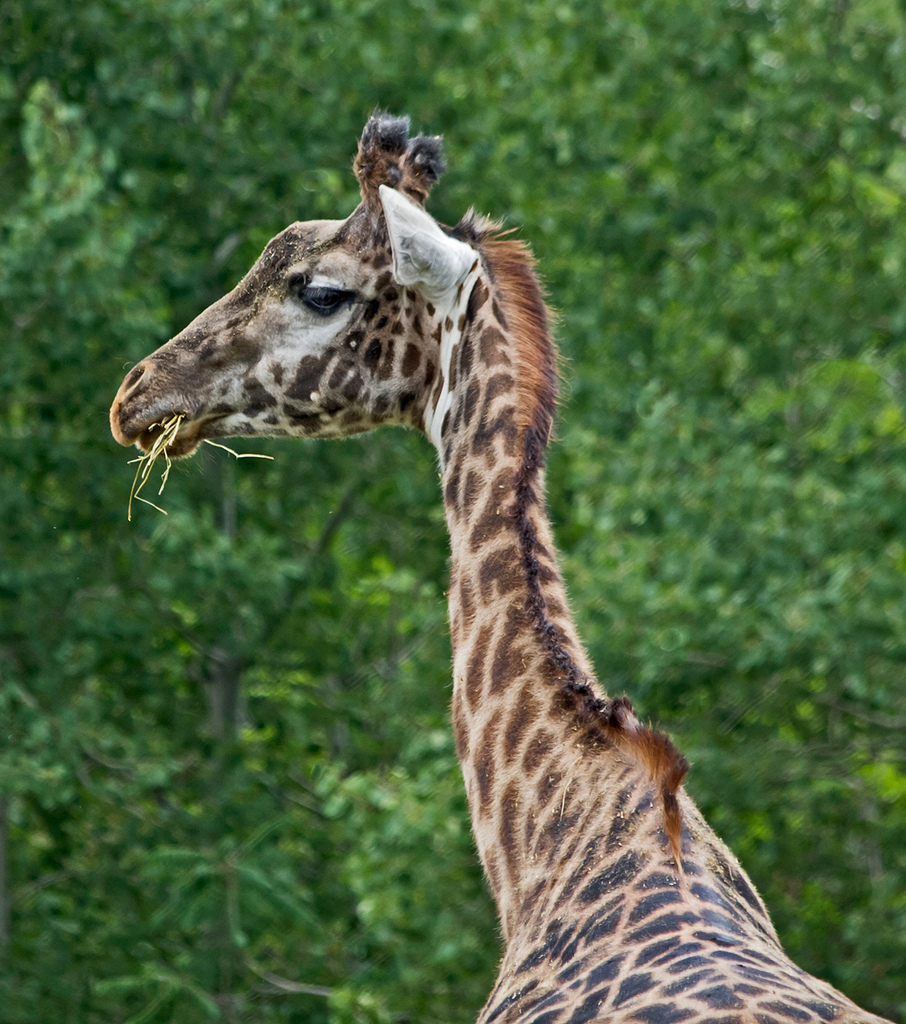giraffe: (111, 123, 789, 1009)
